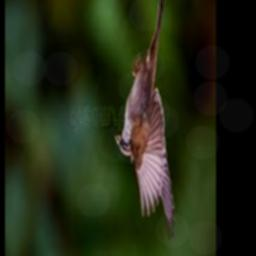Sparrow: (114, 0, 175, 241)
